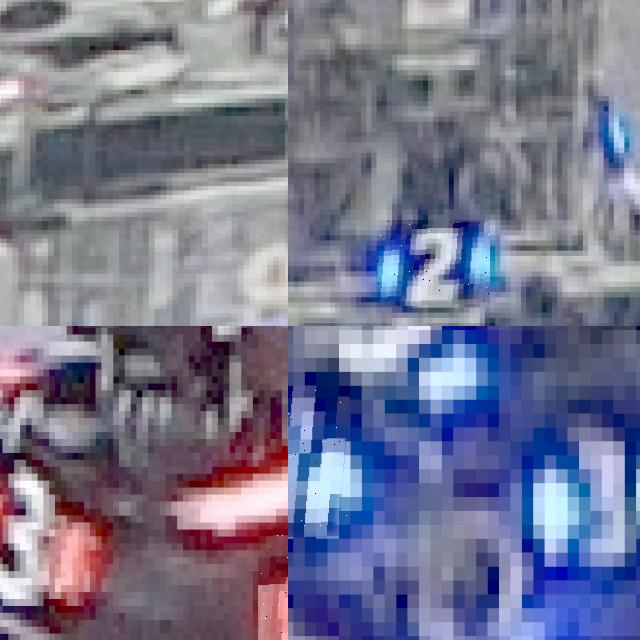B2: (377, 220, 490, 307)
B3: (533, 413, 640, 580), (288, 386, 350, 539)
R3: (0, 449, 90, 623)
